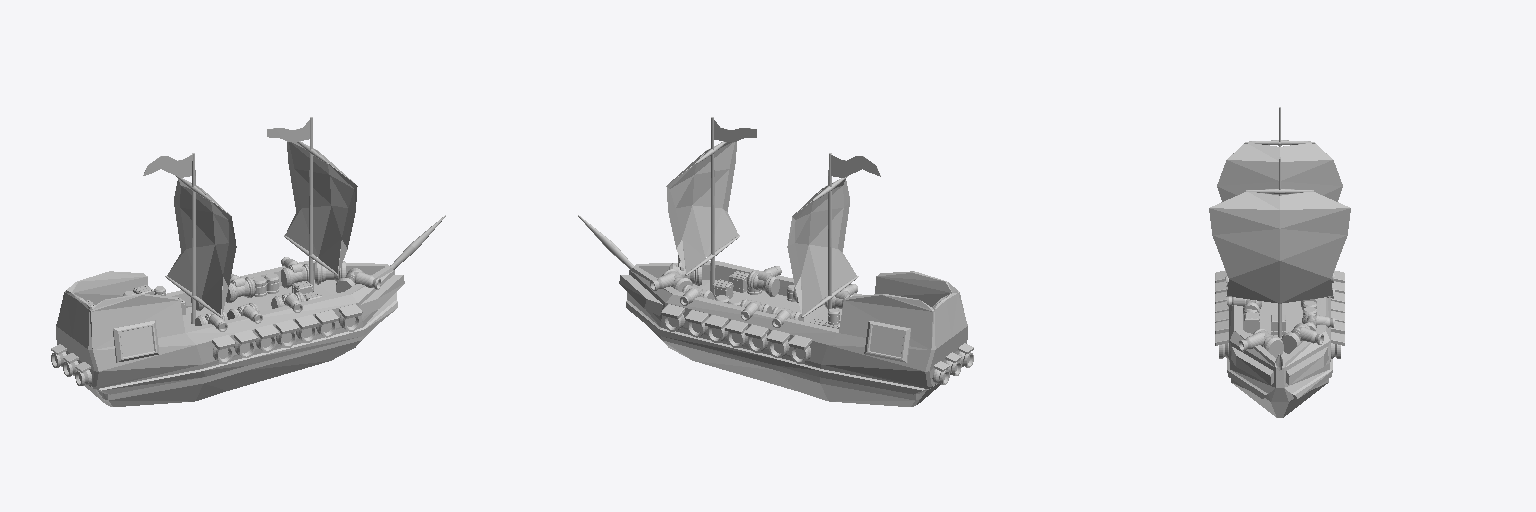
File: Boss_Ship_Attack.obj
The picture shows the model from 3 angles: view 1: azimuth 30°, elevation 25°; view 2: azimuth 150°, elevation 25°; view 3: azimuth 270°, elevation 25°; orthographic projection.
Parts seen in each view (by area): view 1: corpus, Plane.002, Plane, okno, Plane.001, Balka1.001, Balka1.002; view 2: corpus, Plane.002, Plane, okno.001, Plane.001, Balka1.002, Balka1.001; view 3: Plane.002, corpus, Plane.
Part boxes in pixels (x1,y1,x2,y2): corpus: (56, 261, 404, 406); Plane.002: (285, 142, 357, 273); Plane: (167, 179, 236, 315); okno: (113, 320, 158, 362); Plane.001: (143, 154, 192, 177); Balka1.001: (191, 153, 195, 323); Balka1.002: (309, 117, 313, 285); corpus: (619, 261, 967, 406); Plane.002: (666, 142, 738, 273); Plane: (787, 179, 856, 315); okno.001: (864, 321, 910, 362); Plane.001: (831, 154, 880, 177); Balka1.002: (710, 117, 714, 291); Balka1.001: (828, 153, 831, 309); Plane.002: (1209, 192, 1350, 303); corpus: (1227, 297, 1332, 417); Plane: (1217, 143, 1342, 201).
Bounding box in the file's own units: 21.47 × 13.47 × 6.95.